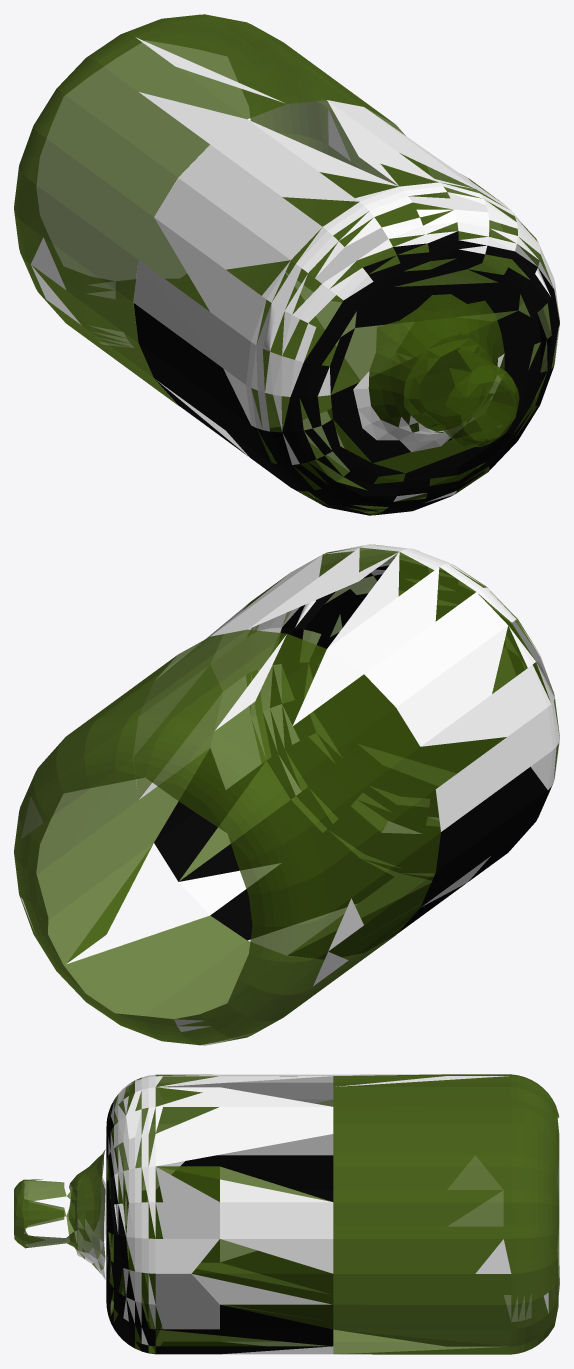
Rendered from model_align.obj.
The picture shows the model from 3 angles, top to bottom: view 1: azimuth 30°, elevation 25°; view 2: azimuth 150°, elevation 25°; view 3: azimuth 270°, elevation 25°; orthographic projection. The views are drawn at different scales.
Size of the model in its own units: 0.1158 by 0.1158 by 0.2249.
